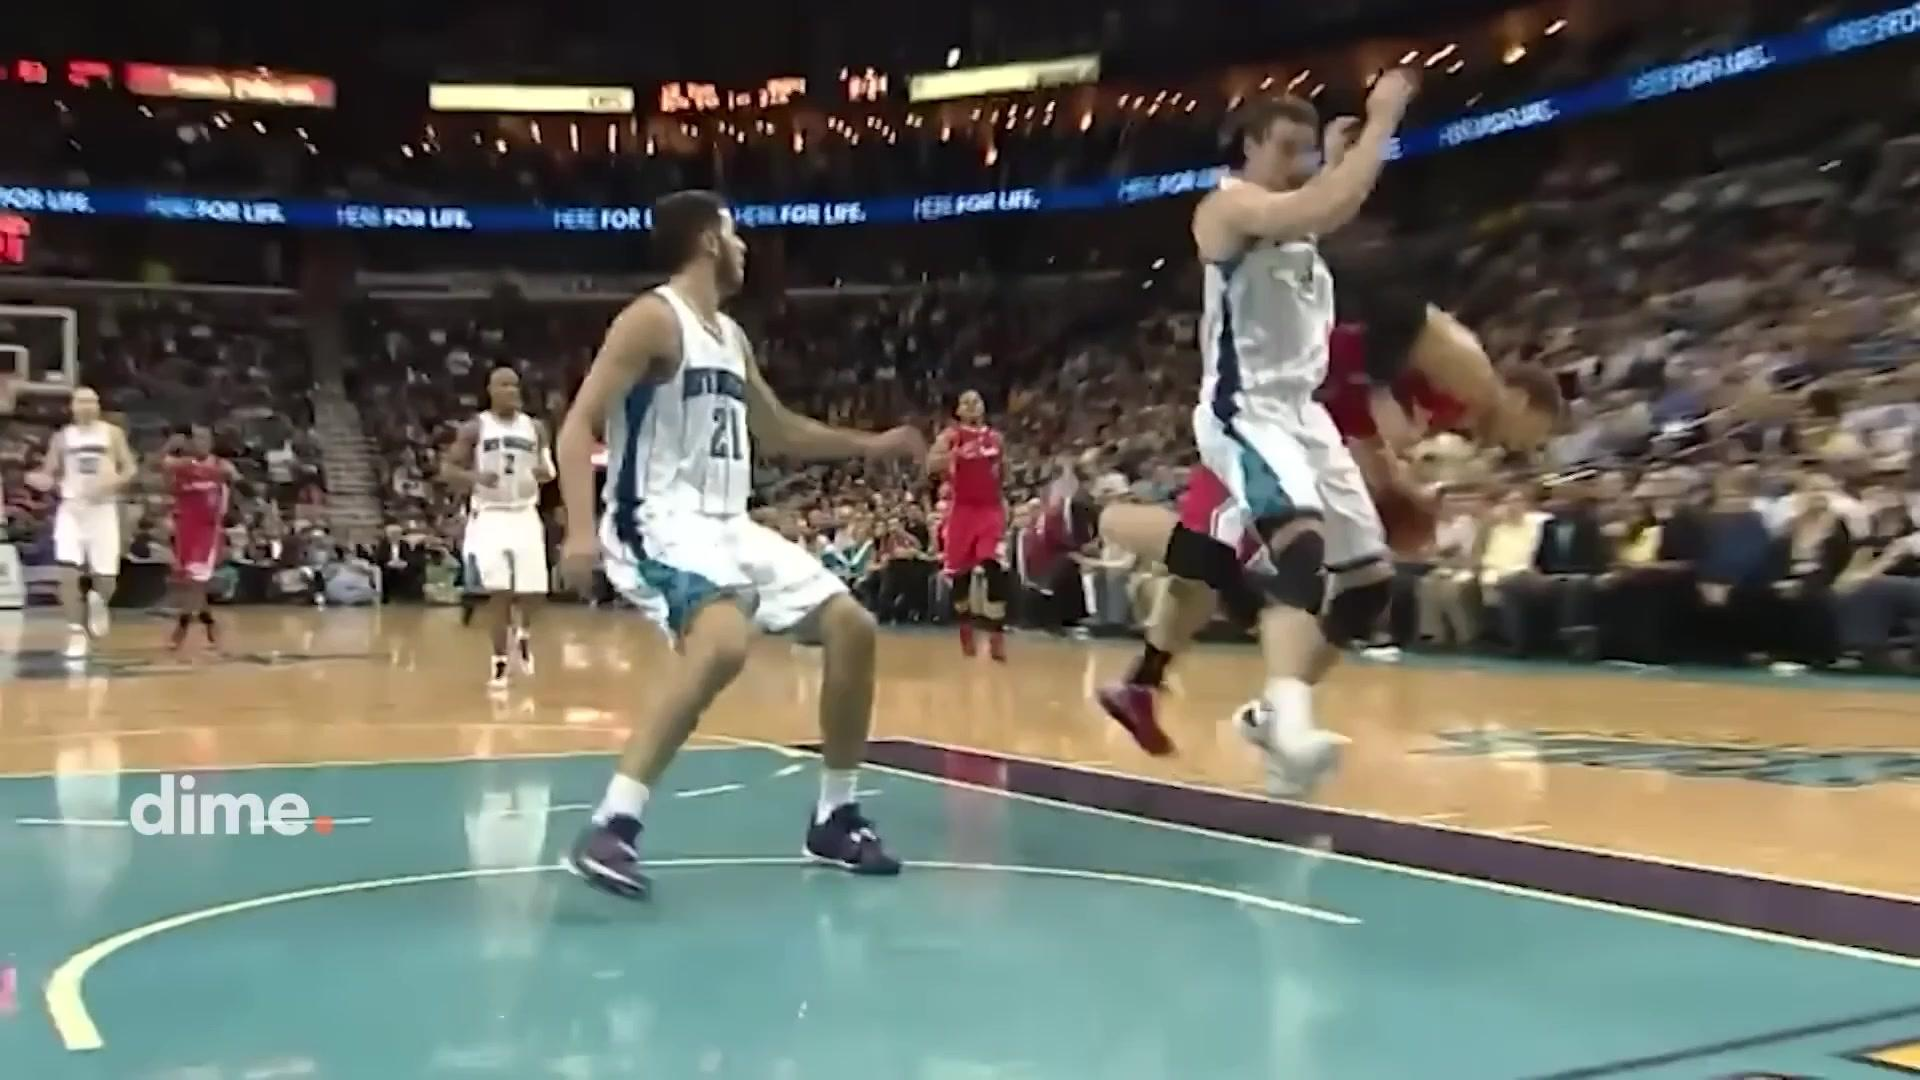foul: (1114, 103, 1520, 811)
